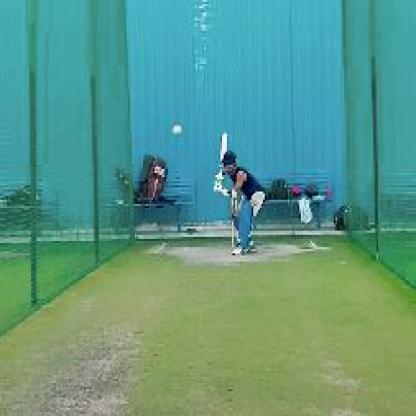ball: (170, 124, 185, 138)
